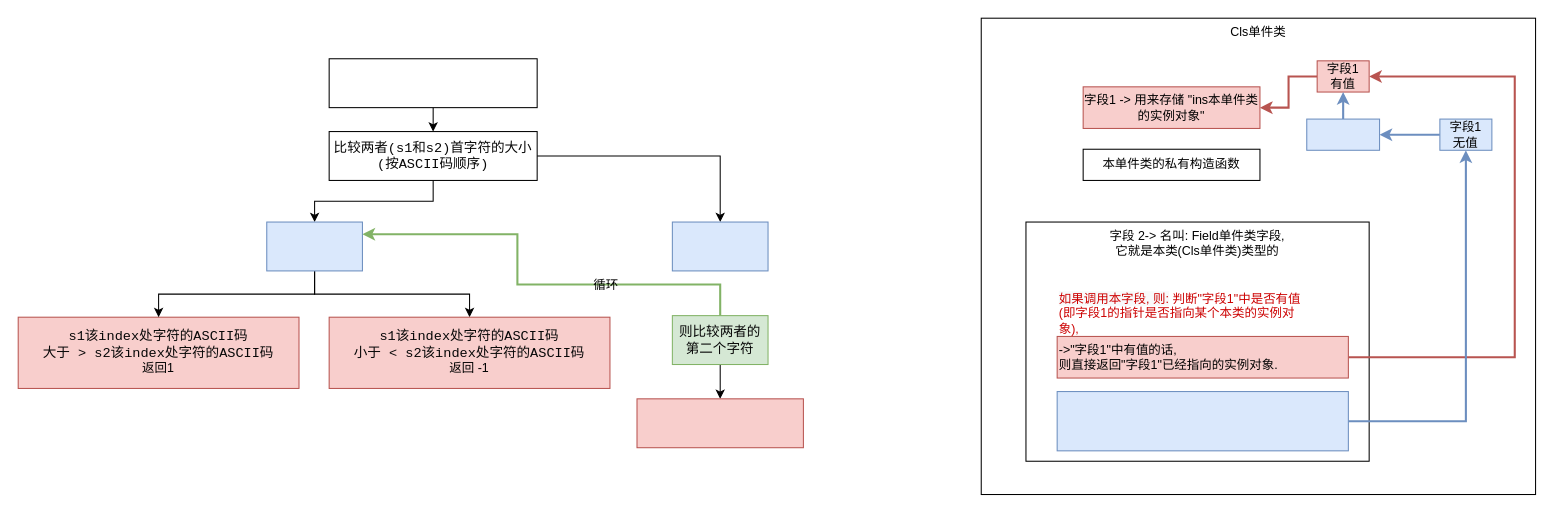
Some shapes in this 1554 by 513 pixel diagram are drawn without their labels. The centre of each missing label's shape, as x and y in pixels:
->"字段1"中没值的话, 就创建new出一个本类的实例对象, 然后赋值给"字段1": the point at 1202,421
new出一个本类实例: the point at 1343,134
s1和s2 首字符 不相同: the point at 314,246
s1和s2 首字符 相同: the point at 719,246
str1.CompareTo(str2): the point at 432,83
两者所有字符完全相同, 返回 0: the point at 719,423
